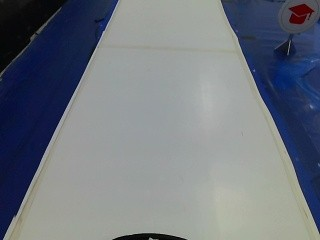school: (277, 0, 318, 36)
